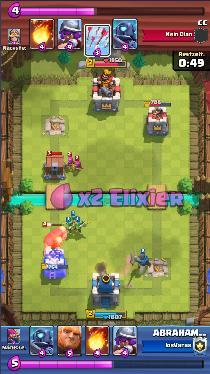ally_goblin_cage: (41, 154, 66, 181)
ally_knight: (132, 252, 152, 269)
ally_spear_goblin: (75, 220, 84, 236), (65, 220, 73, 234), (69, 213, 77, 227)
enemy_archer: (66, 155, 74, 170), (72, 161, 82, 172)
enemy_giant: (42, 225, 67, 252)
